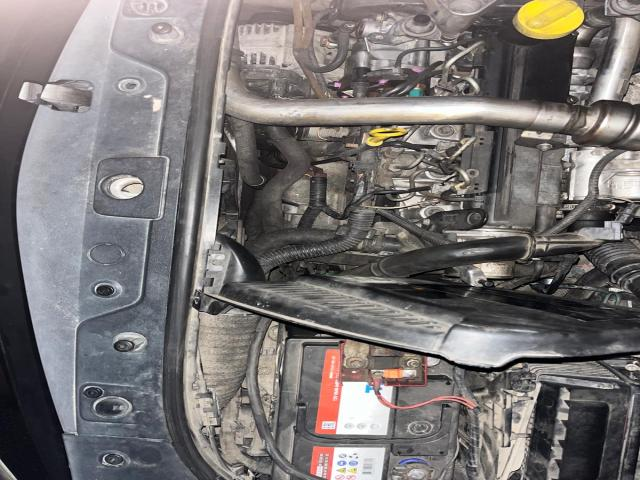accumulator: (277, 338, 460, 480)
alternator: (238, 23, 298, 70)
high_pressure_pump: (330, 12, 430, 98), (272, 466, 298, 480)
